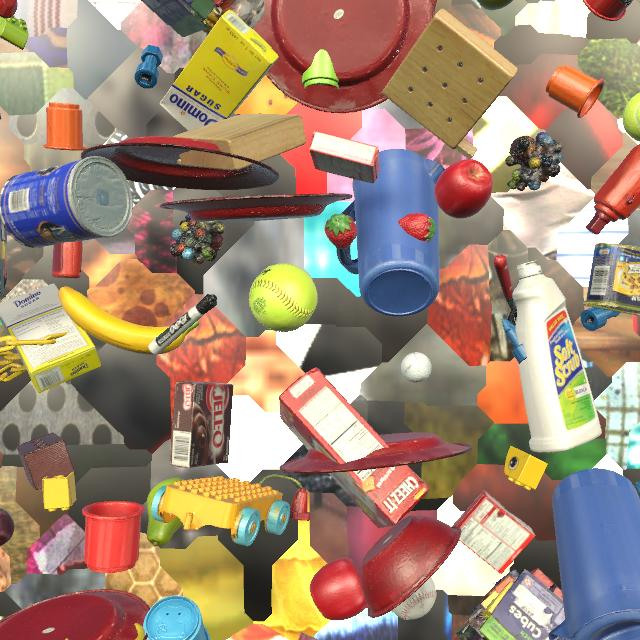ycb_002_master_chef_can: (0, 156, 133, 248)
ycb_003_cracker_box: (279, 367, 430, 528), (407, 0, 437, 15)
ycb_004_sugar_box: (159, 10, 279, 131), (0, 283, 101, 393)
ycb_008_pudding_box: (170, 380, 234, 468)
ycb_009_gelatin_box: (452, 490, 535, 574), (309, 131, 380, 183), (298, 632, 318, 640)
ycb_010_potted_meat_can: (583, 243, 640, 316)
ycb_011_banana: (58, 287, 199, 355)
ycb_012_strawberry: (324, 214, 357, 249), (398, 213, 436, 242)
ycb_013_apple: (310, 558, 368, 620), (434, 159, 493, 219)
ycb_016_pear: (147, 477, 184, 546), (477, 0, 513, 10)
ycb_018_plum: (0, 508, 15, 546)
